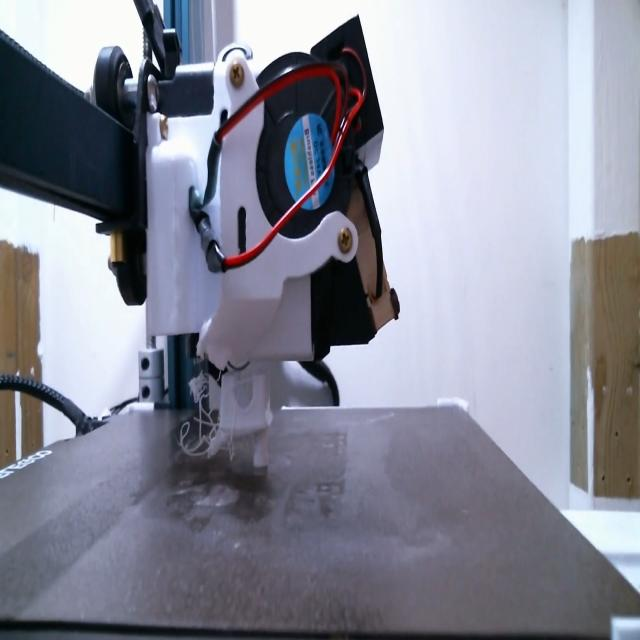spaghetti: (178, 367, 252, 463)
